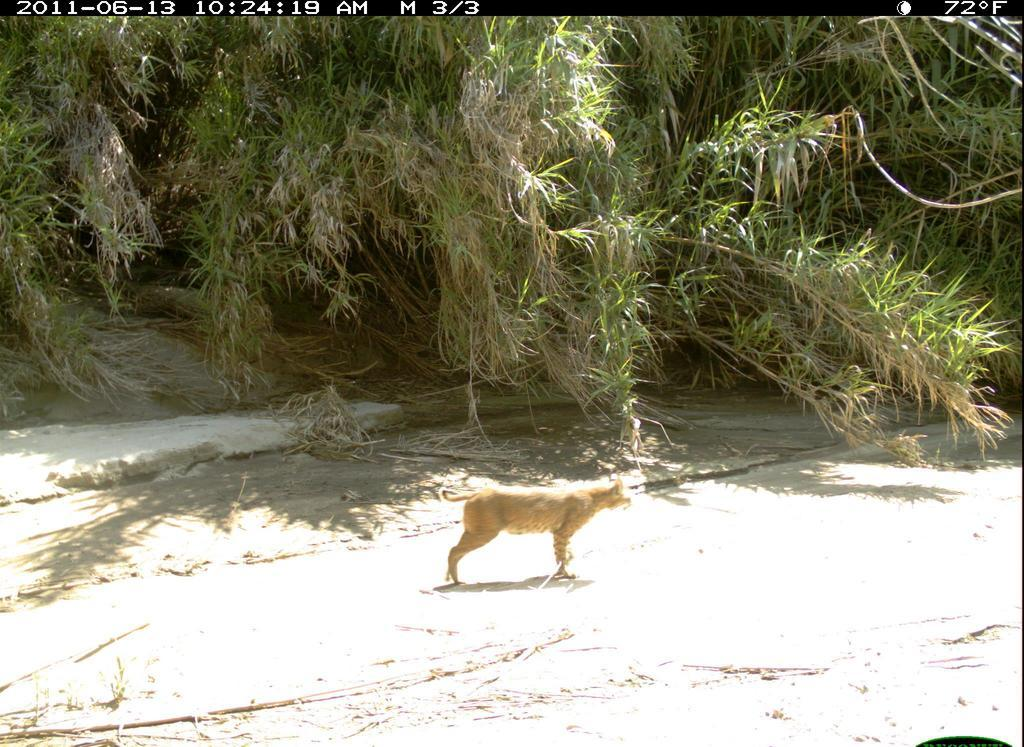bobcat: (431, 457, 643, 598)
